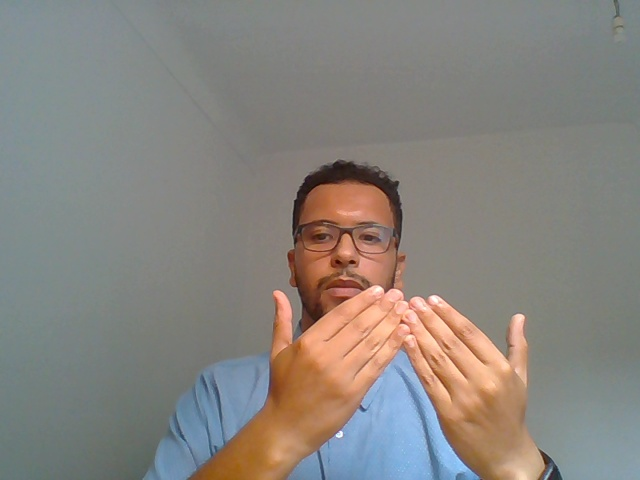thanks: (211, 284, 587, 480)
